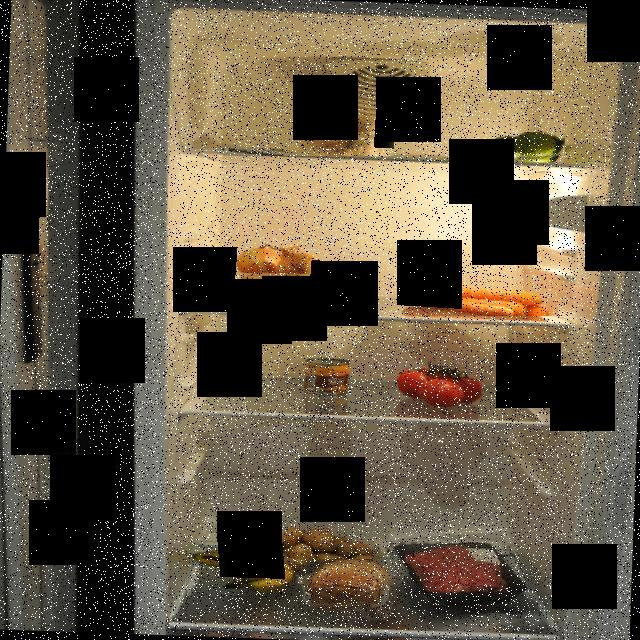banana: (182, 534, 296, 596)
bread: (306, 560, 398, 622)
carrot: (395, 274, 558, 316)
chocolate: (216, 145, 289, 156)
corn: (303, 356, 351, 398)
ground_beef: (392, 538, 536, 609)
lime: (480, 132, 565, 164)
mushrooms: (284, 106, 396, 156)
onion: (230, 241, 322, 312)
potato: (270, 524, 390, 576)
tomato: (390, 358, 484, 408)
